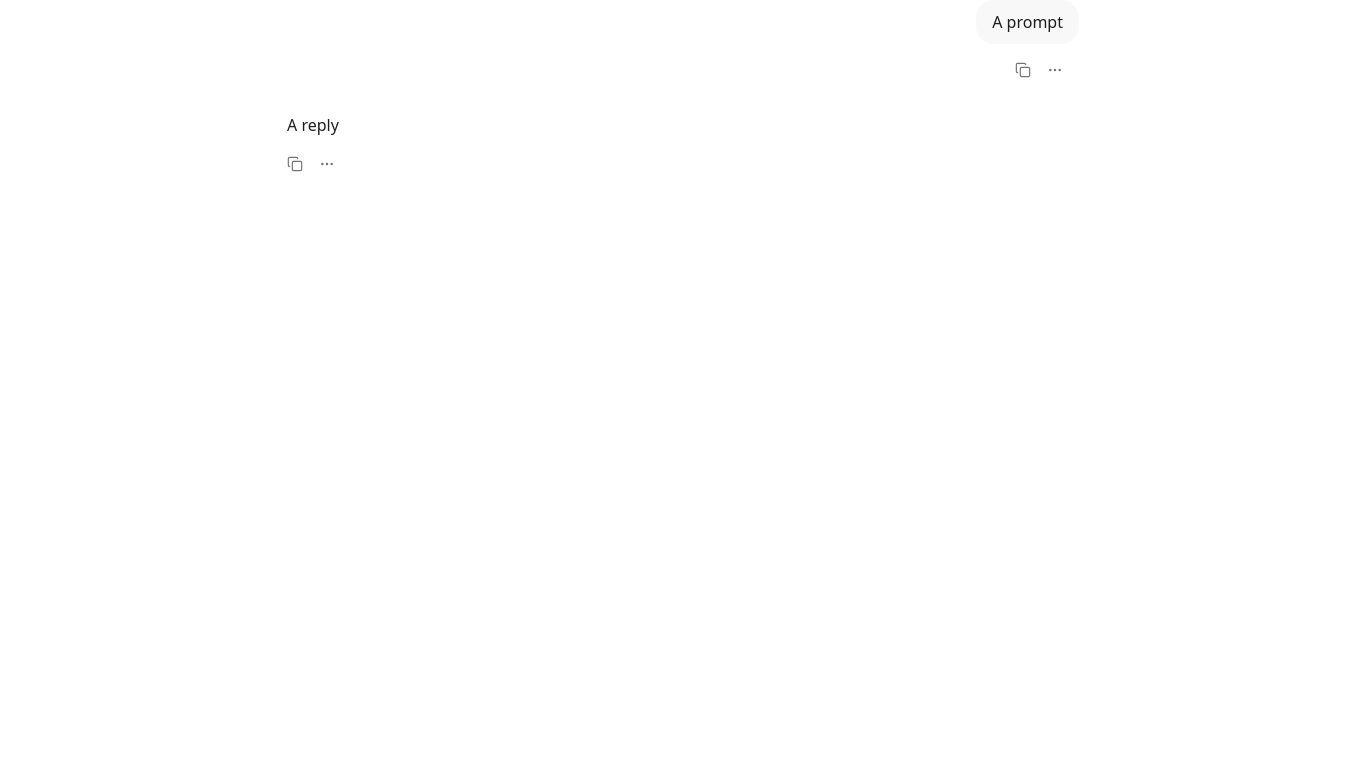
Scenario: message link actions › keeps user actions outside the bubble and exposes a labelled mobile fork action
Expected: the text "A reply" is shown, left=287, top=114, right=339, bottom=136
What coordinates should you click on to do the following:
click the button named "Message actions" below "A reply"
I would click on:
 (327, 164)
Its box is left=311, top=142, right=343, bottom=186.
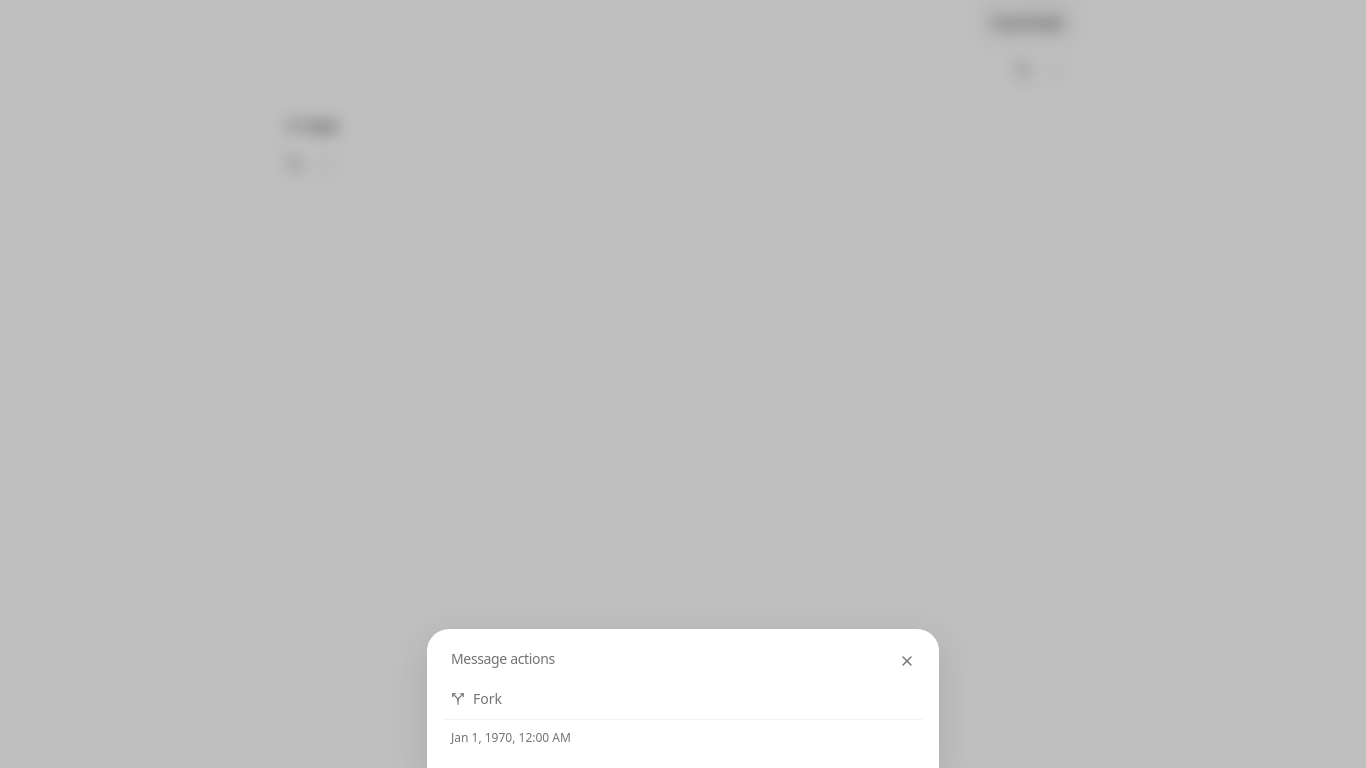
Expected: the button "Fork" is shown
What coordinates should you click on to do the following:
click the button "Fork"
I would click on:
 (458, 699)
Its box is left=443, top=685, right=923, bottom=713.
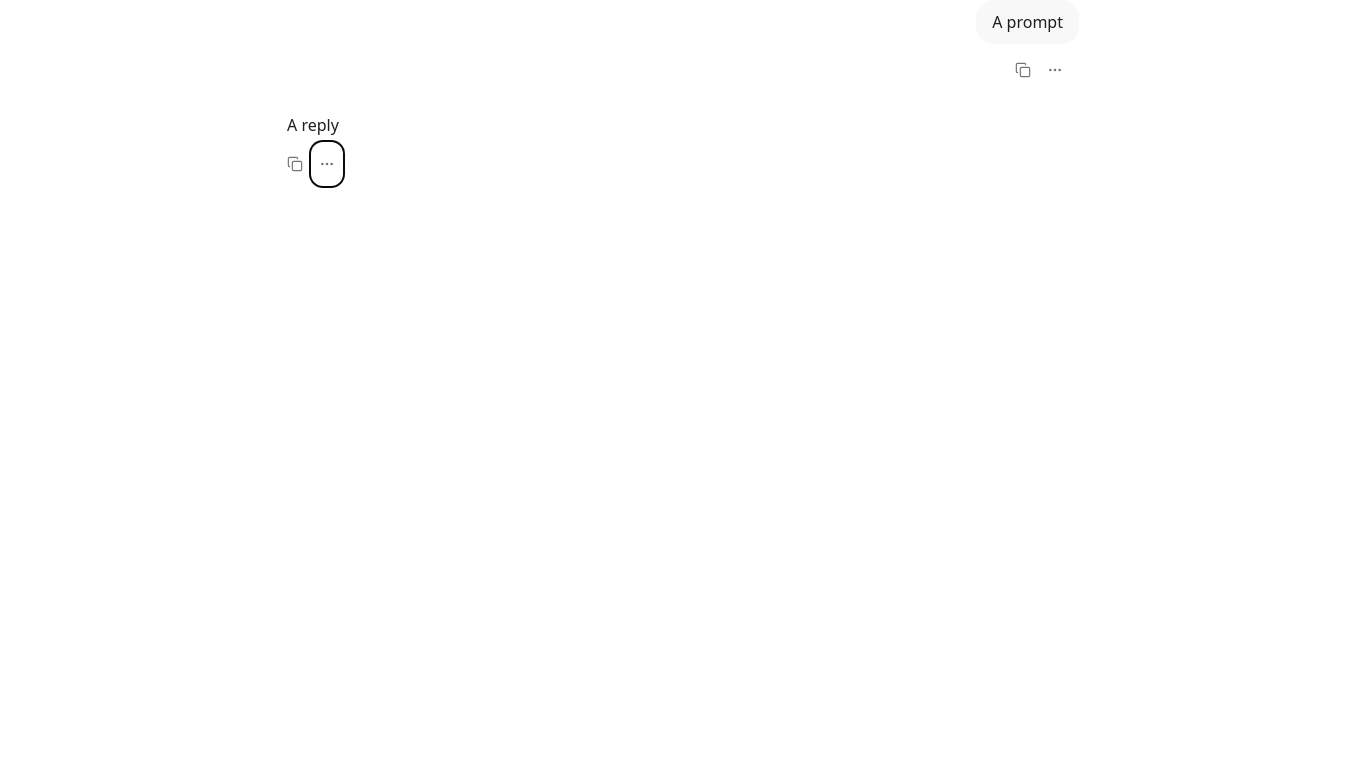
Expected: the dialog is gone
